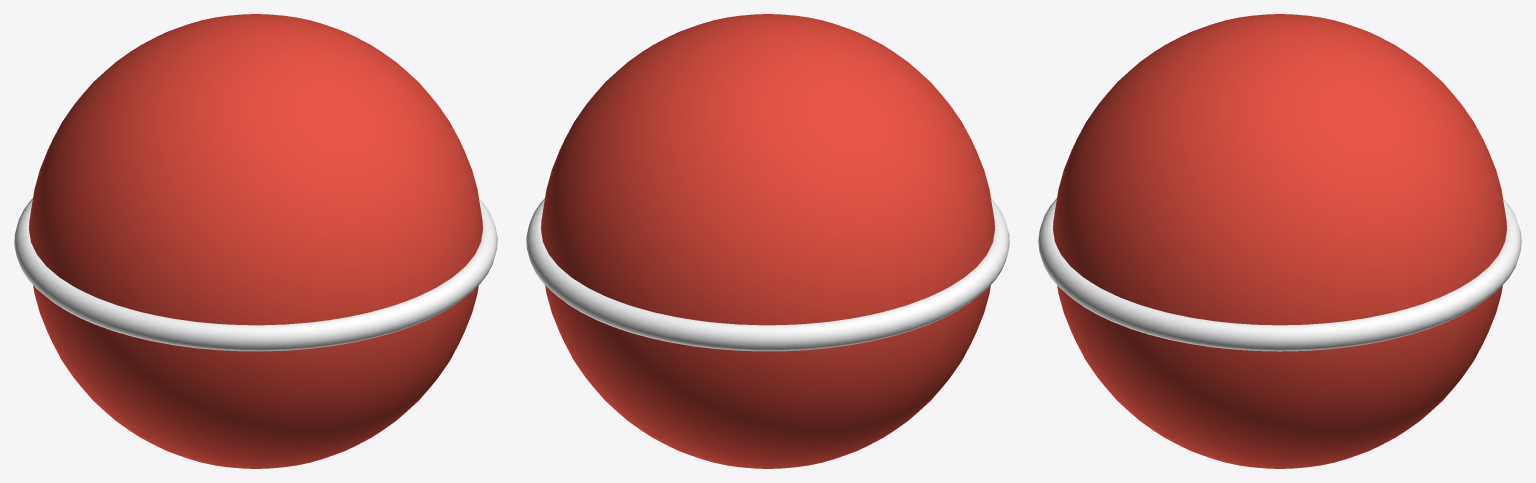
The model's file is bola.glb.
3 renders of one model, left to right at view 1: azimuth 30°, elevation 25°; view 2: azimuth 150°, elevation 25°; view 3: azimuth 270°, elevation 25°, orthographic.
Size of the model in its own units: 2.12 by 2 by 2.12.
